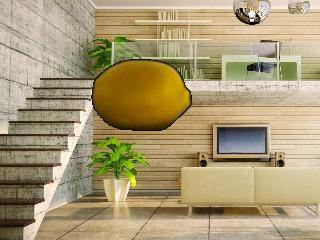lemon: (93, 62, 190, 132)
